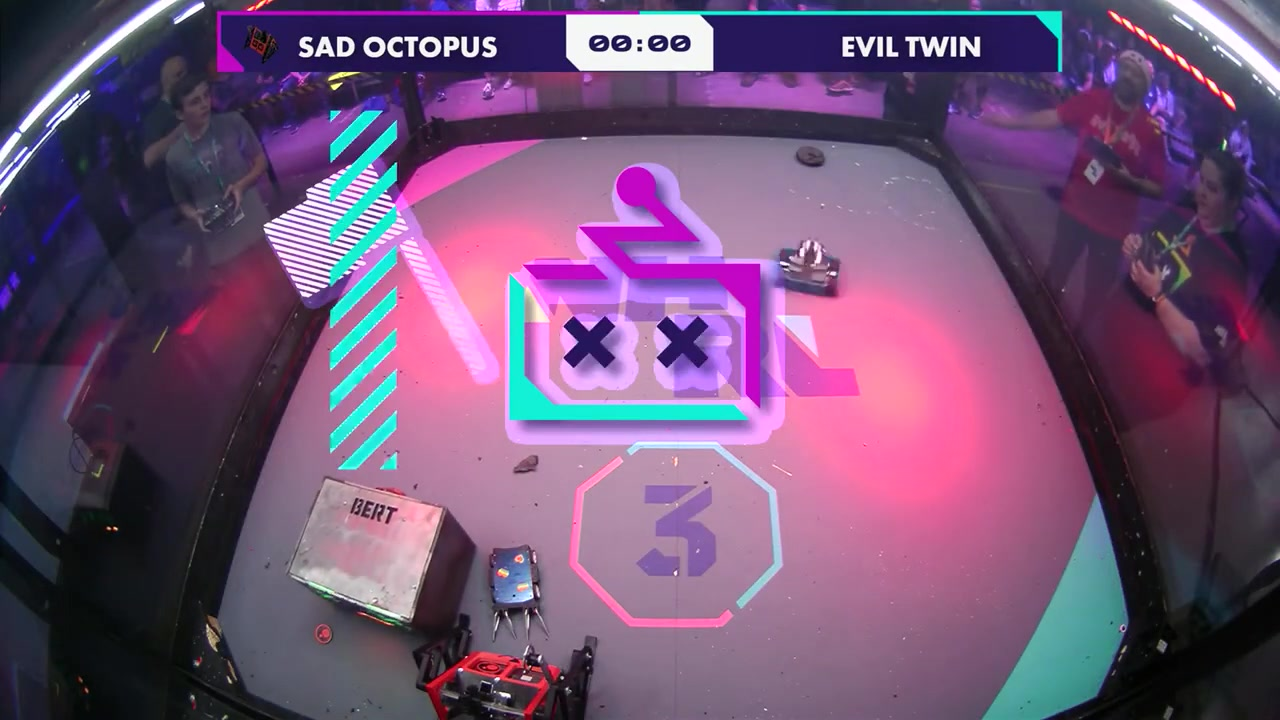combatbot: (421, 640, 601, 718), (486, 544, 548, 645), (776, 238, 844, 297), (794, 145, 828, 170)
debris: (511, 451, 543, 475), (313, 624, 334, 646)
housebot: (287, 476, 453, 629)
